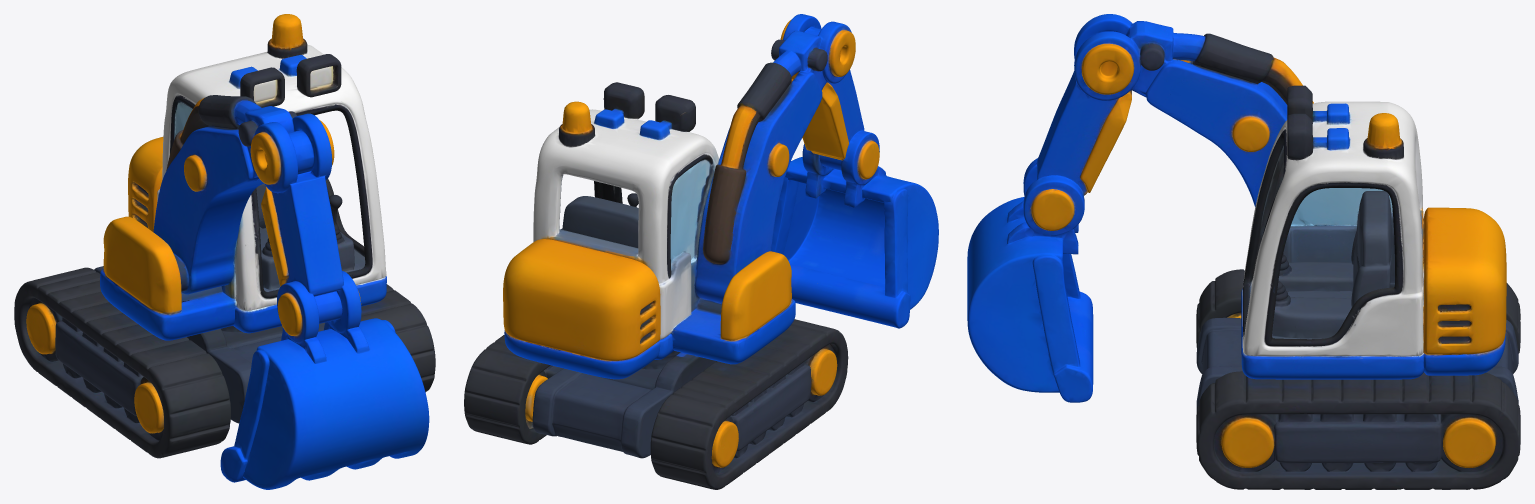
File: supplied-excavator.glb
3 views of the same model, side by side, from view 1: azimuth 30°, elevation 25°; view 2: azimuth 150°, elevation 25°; view 3: azimuth 270°, elevation 25° (orthographic). The views are drawn at different scales.
Parts seen in each view (by area): view 1: tripo_part_1, tripo_part_5, tripo_part_3, tripo_part_0, tripo_part_6, tripo_part_4, tripo_part_2, tripo_part_16, tripo_part_8, tripo_part_13, tripo_part_18, tripo_part_14 (+4 smaller); view 2: tripo_part_1, tripo_part_0, tripo_part_3, tripo_part_8, tripo_part_5, tripo_part_4, tripo_part_6, tripo_part_16, tripo_part_2, tripo_part_7, tripo_part_23, tripo_part_9 (+4 smaller); view 3: tripo_part_0, tripo_part_2, tripo_part_1, tripo_part_5, tripo_part_8, tripo_part_15, tripo_part_16, tripo_part_4, tripo_part_7, tripo_part_11, tripo_part_3, tripo_part_17 (+6 smaller).
Part boxes in pixels (<box>): tripo_part_1: <box>153,95,343,323</box>; tripo_part_5: <box>243,271,429,489</box>; tripo_part_3: <box>14,267,230,458</box>; tripo_part_0: <box>157,14,386,333</box>; tripo_part_6: <box>100,216,242,340</box>; tripo_part_4: <box>55,266,324,423</box>; tripo_part_2: <box>360,284,435,392</box>; tripo_part_16: <box>220,320,395,482</box>; tripo_part_8: <box>128,137,163,231</box>; tripo_part_13: <box>296,54,341,97</box>; tripo_part_18: <box>240,67,284,107</box>; tripo_part_14: <box>261,187,288,286</box>; tripo_part_1: <box>694,14,864,303</box>; tripo_part_0: <box>533,101,719,359</box>; tripo_part_3: <box>650,319,848,489</box>; tripo_part_8: <box>503,239,660,360</box>; tripo_part_5: <box>783,131,938,309</box>; tripo_part_4: <box>532,352,811,458</box>; tripo_part_6: <box>641,251,795,369</box>; tripo_part_16: <box>771,177,910,328</box>; tripo_part_2: <box>464,335,552,444</box>; tripo_part_7: <box>561,196,638,247</box>; tripo_part_23: <box>670,159,713,262</box>; tripo_part_9: <box>504,330,660,379</box>; tripo_part_0: <box>1241,101,1424,379</box>; tripo_part_2: <box>1196,371,1520,489</box>; tripo_part_1: <box>1037,14,1313,206</box>; tripo_part_5: <box>967,158,1084,392</box>; tripo_part_8: <box>1423,207,1506,354</box>; tripo_part_15: <box>1273,421,1442,462</box>; tripo_part_16: <box>1032,253,1093,402</box>; tripo_part_4: <box>1196,317,1518,410</box>; tripo_part_7: <box>1351,191,1391,307</box>; tripo_part_11: <box>1272,281,1351,338</box>; tripo_part_3: <box>1196,269,1520,353</box>; tripo_part_17: <box>1291,188,1392,225</box>.
Size of the model in its own units: 0.5617 by 0.7276 by 0.9799.
Materials: 26 (26 with a texture image).
